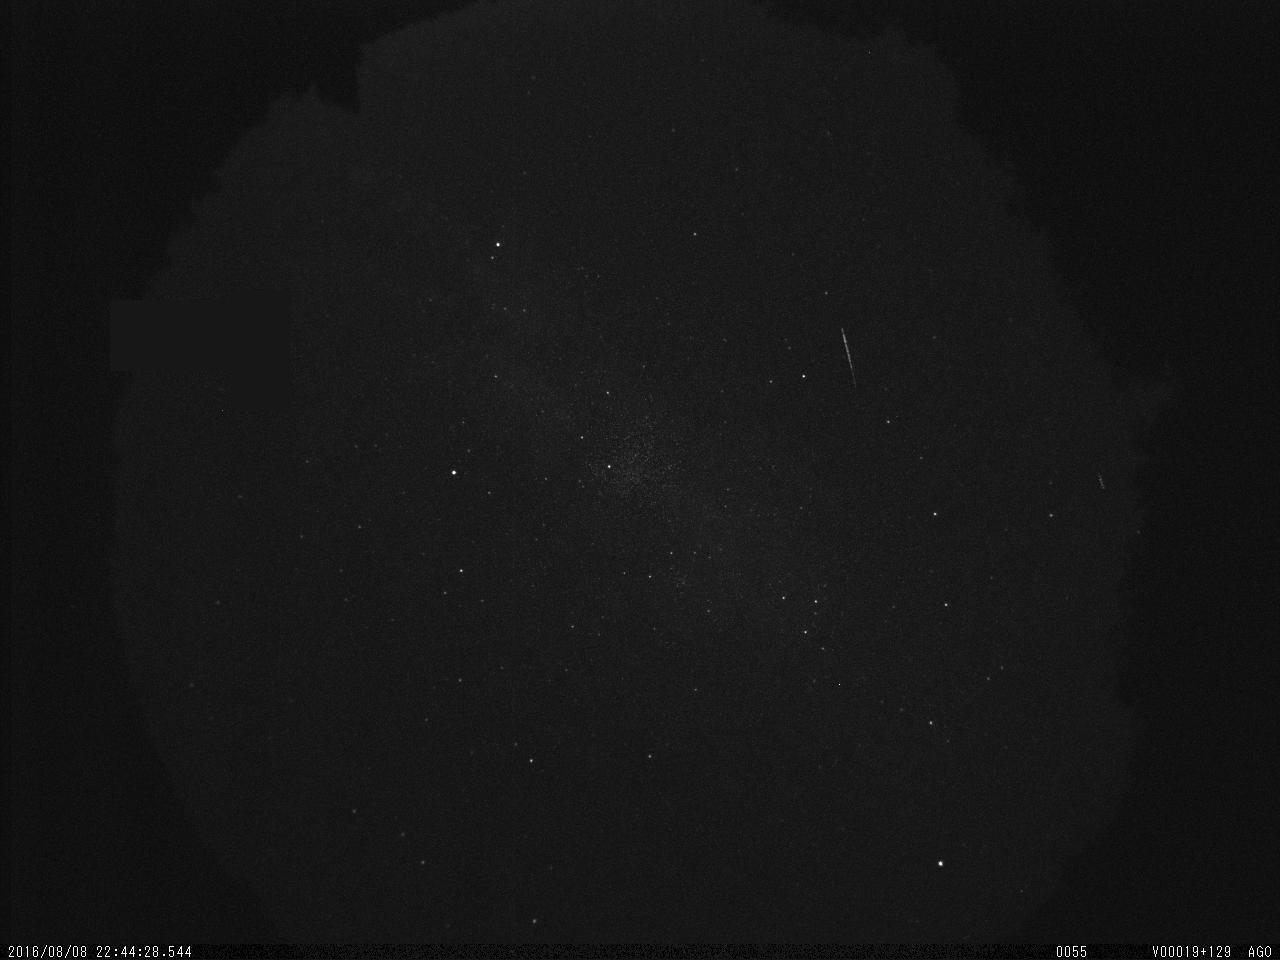Meteor: (837, 324, 858, 390)
